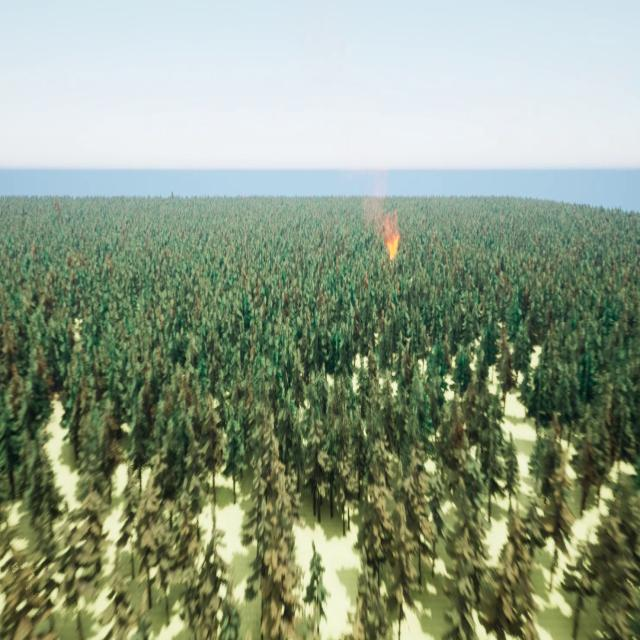fire: (384, 233, 401, 262)
smoke: (359, 172, 398, 242)
